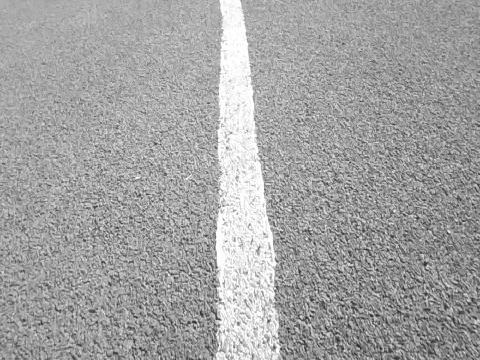Lines: (215, 0, 281, 360)
